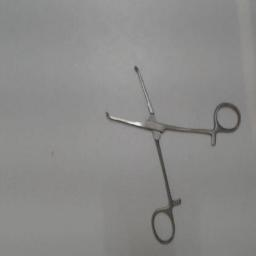Allis Tissue Forceps: (102, 56, 242, 250)
